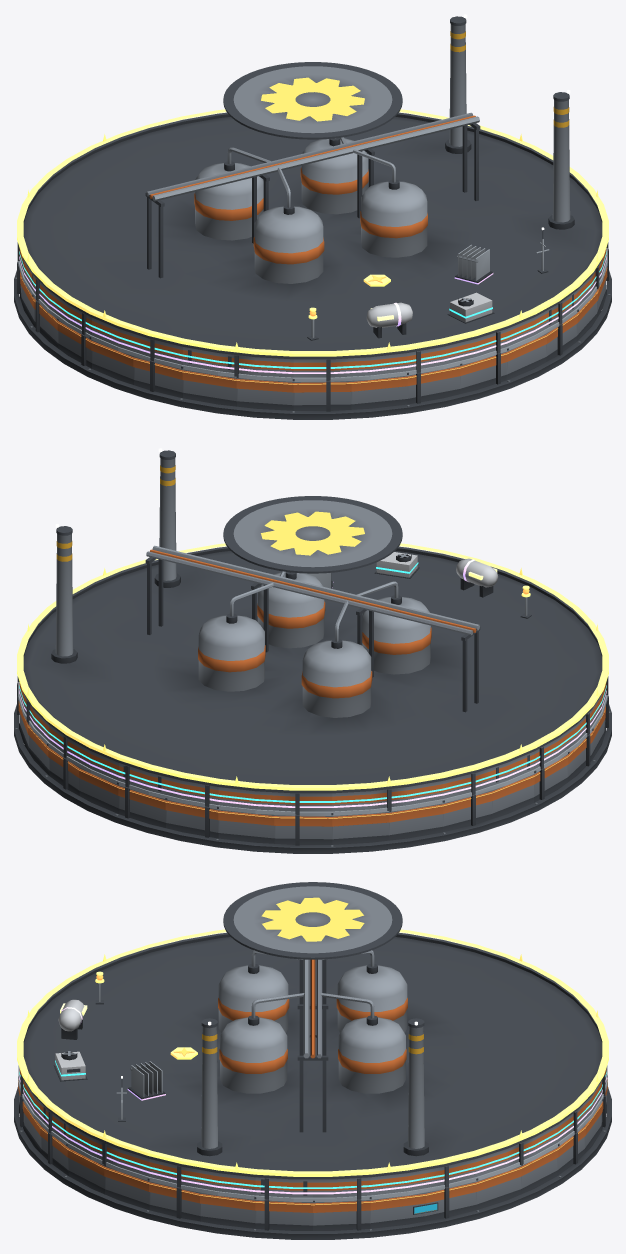
The model's file is polymer_plant_xl.glb.
3 renders of one model, top to bottom at view 1: azimuth 30°, elevation 25°; view 2: azimuth 150°, elevation 25°; view 3: azimuth 270°, elevation 25°, orthographic.
Parts seen in each view (by area): view 1: Roof, Base, L4, Wall_21, Wall_20, Wall_22, Wall_19, Wall_23, Wall_18, Wall_24, Wall_17, Wall_25 (+15 smaller); view 2: Roof, Base, Wall_10, Wall_11, Wall_09, Wall_12, Wall_08, Wall_13, Wall_07, L4, Wall_14, Wall_06 (+16 smaller); view 3: Roof, Base, L4, Wall_00, Wall_31, Wall_30, Wall_01, Wall_29, Wall_02, Wall_28, Wall_03, Wall_04 (+16 smaller).
Part boxes in pixels (x1,y1,x2,y2): Roof: [23, 14, 602, 359]; Base: [14, 270, 611, 419]; L4: [366, 244, 493, 338]; Wall_21: [293, 381, 351, 411]; Wall_20: [236, 377, 293, 410]; Wall_22: [351, 375, 407, 409]; Wall_19: [182, 369, 236, 406]; Wall_23: [407, 365, 460, 404]; Wall_18: [133, 356, 182, 398]; Wall_24: [460, 351, 507, 393]; Wall_17: [91, 340, 133, 384]; Wall_25: [506, 334, 546, 379]; Roof: [23, 448, 602, 793]; Base: [14, 704, 611, 853]; Wall_10: [274, 815, 332, 845]; Wall_11: [332, 811, 389, 844]; Wall_09: [218, 809, 274, 843]; Wall_12: [389, 803, 443, 840]; Wall_08: [165, 798, 218, 838]; Wall_13: [443, 790, 492, 832]; Wall_07: [118, 785, 165, 827]; L4: [307, 558, 498, 597]; Wall_14: [492, 774, 534, 818]; Wall_06: [79, 768, 119, 813]; Roof: [23, 882, 602, 1179]; Base: [14, 1087, 611, 1239]; L4: [58, 999, 165, 1100]; Wall_00: [313, 1199, 370, 1230]; Wall_31: [255, 1199, 312, 1230]; Wall_30: [200, 1192, 255, 1228]; Wall_01: [370, 1192, 425, 1228]; Wall_29: [149, 1181, 200, 1221]; Wall_02: [425, 1181, 476, 1221]; Wall_28: [104, 1165, 149, 1210]; Wall_03: [476, 1166, 521, 1210]; Wall_04: [521, 1148, 558, 1194].
Size of the model in its own units: 23.15 by 8.28 by 23.15.
